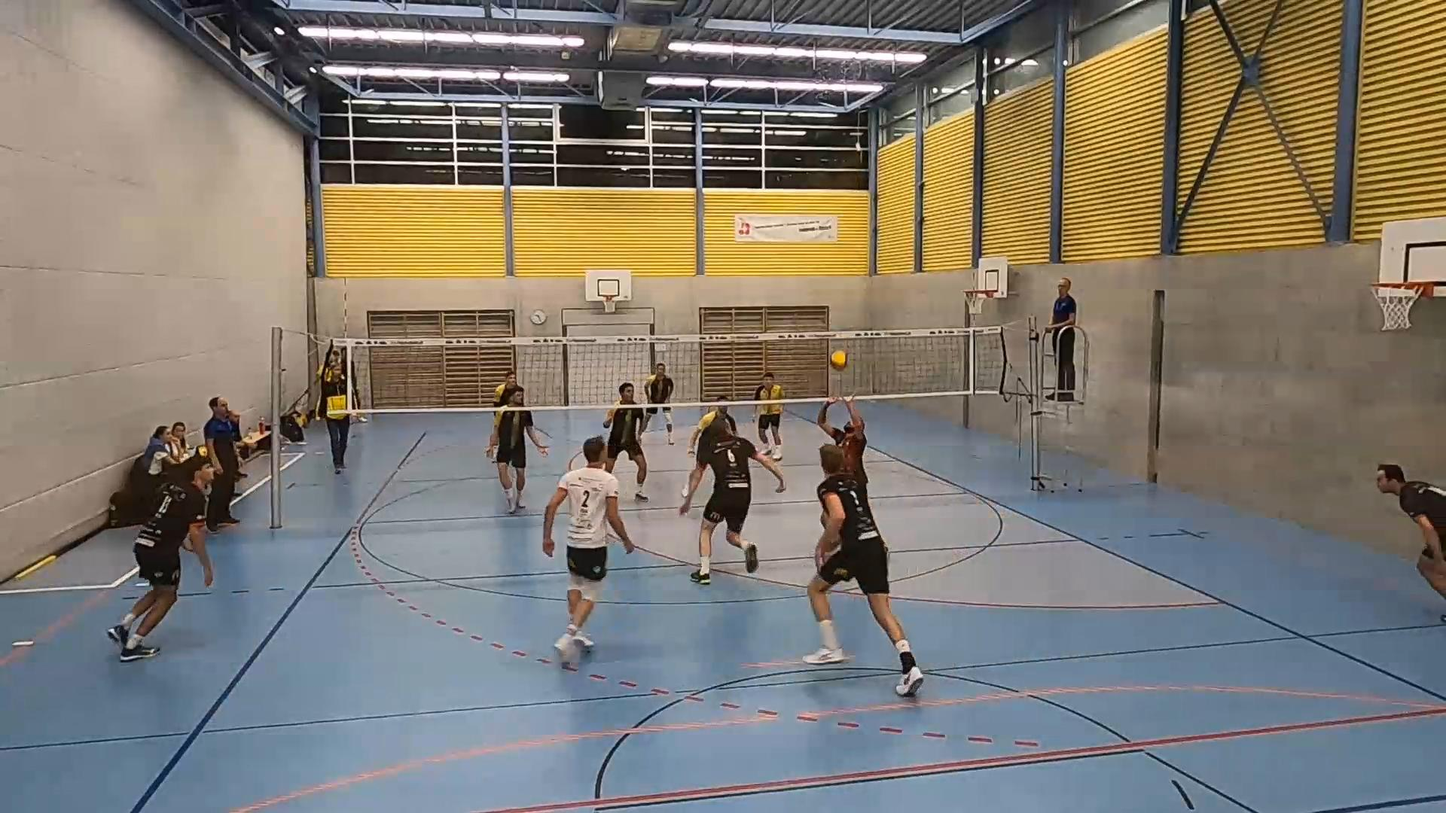alzata: (815, 390, 880, 504)
